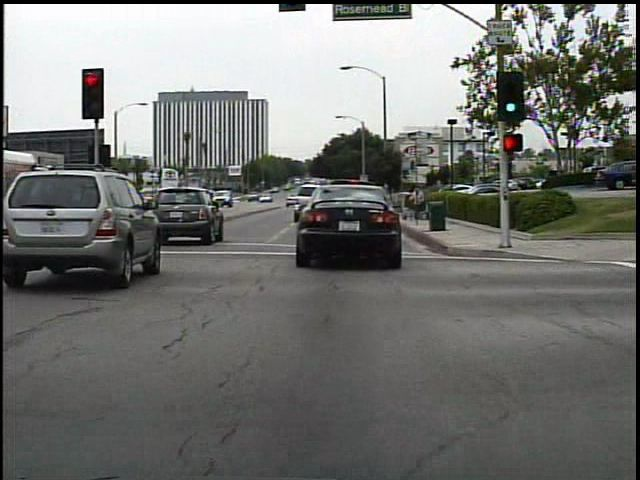person: (407, 183, 426, 225)
